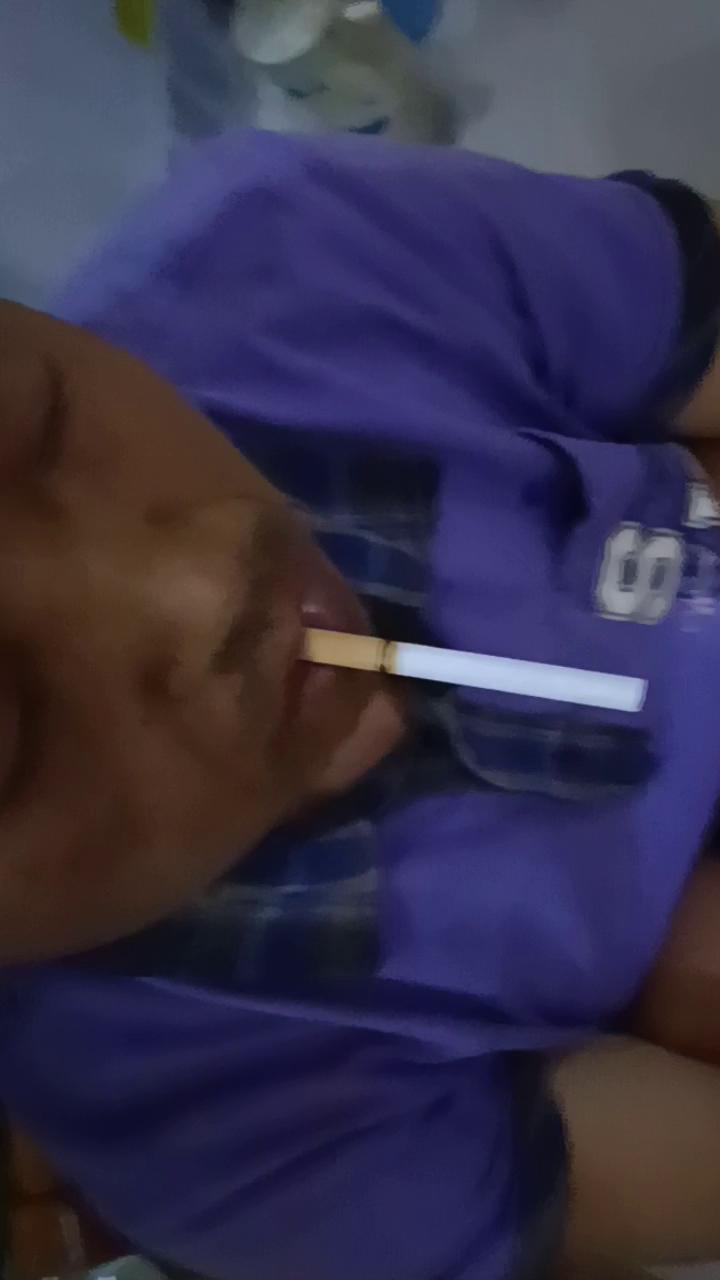smoke: (294, 632, 655, 712)
